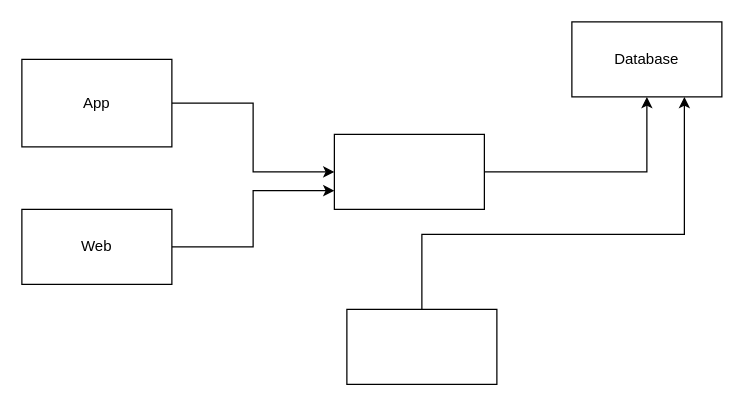
Image size: 744x406. Some labels were removed from this diagram. Here are the shapes that lost their labels. From the top down, the box of each, then its label:
(333, 133, 484, 209): Interface
(346, 308, 497, 384): Blockchain Program
